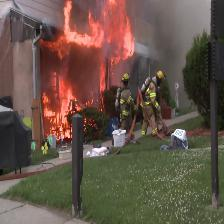fire: (33, 0, 145, 163)
